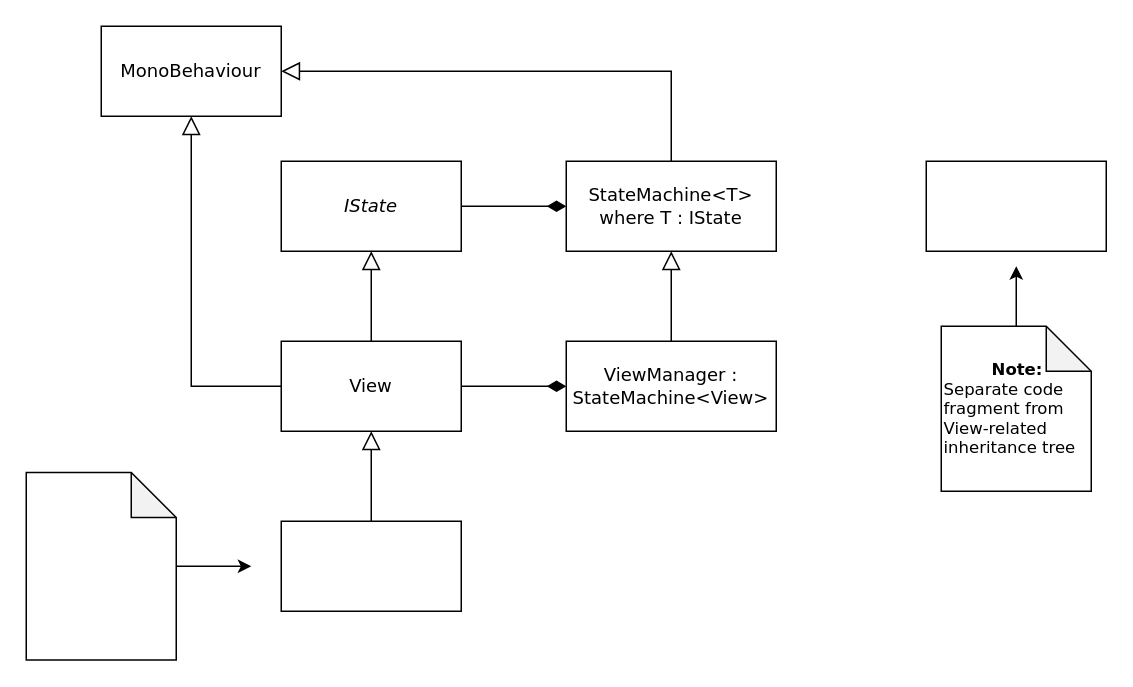
This 1133x687 diagram has some shape labels left out. Here are the shapes that lost their labels. From the top down, the centre of each, then its label:
At [1015,205]: "VolumeHandler".
At [100,565]: "Note: There was more classes similar to MainMenuView, that inherited from View.".
At [370,565]: "MainMenuView".
